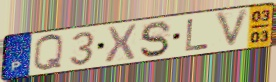3: (67, 30, 98, 67)
L: (183, 18, 211, 53)
Q: (32, 33, 65, 73)
S: (139, 20, 173, 59)
V: (213, 7, 253, 51)
X: (103, 23, 138, 66)
